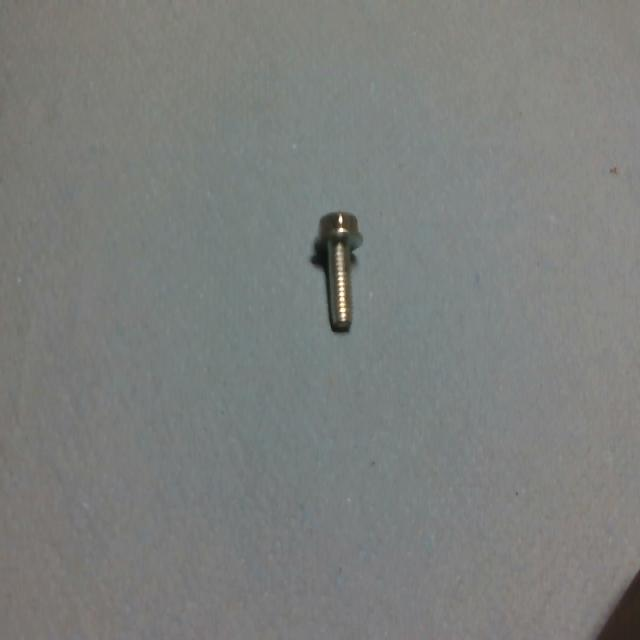Bolt: (316, 212, 363, 333)
